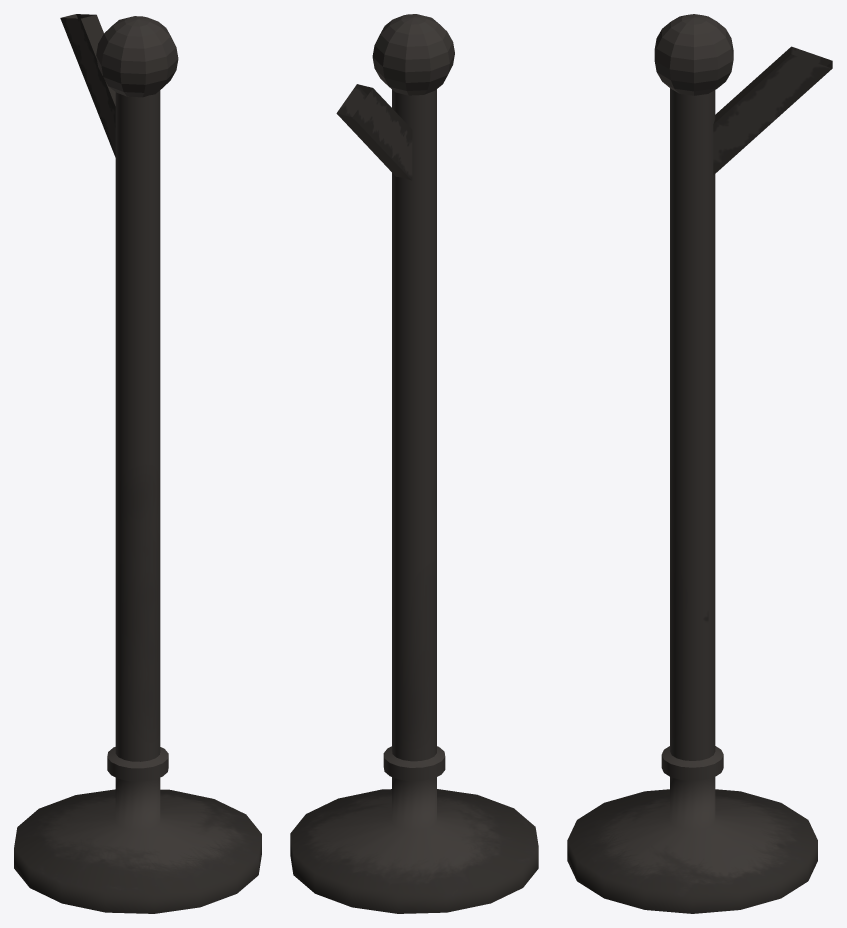
The model's file is Lantern_post.fbx.
3 views of the same model, side by side, from view 1: azimuth 30°, elevation 25°; view 2: azimuth 150°, elevation 25°; view 3: azimuth 270°, elevation 25° (orthographic).
Parts seen in each view (by area): view 1: Lantern_post; view 2: Lantern_post; view 3: Lantern_post.
Boxes of the visible parts, x1,y1,x2,y2 form: Lantern_post: (14, 14, 261, 913); Lantern_post: (290, 14, 538, 913); Lantern_post: (567, 14, 832, 913).
Size of the model in its own units: 0.6039 by 2.24 by 0.6392.
